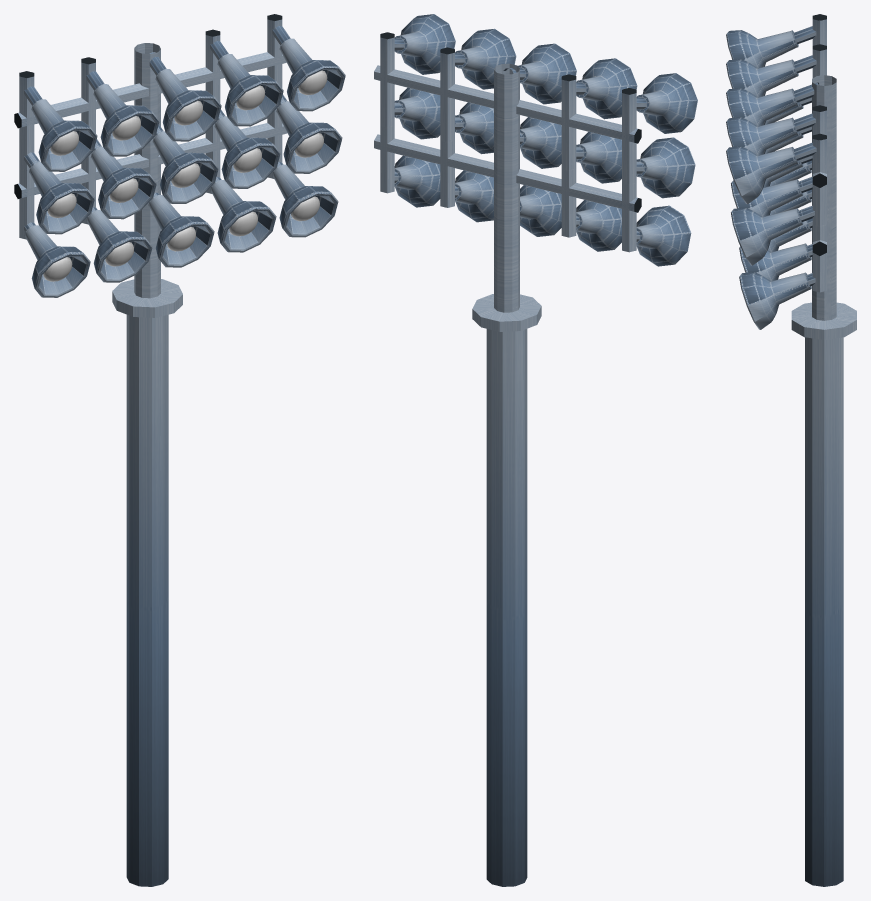
Rendered from MK_Lights.fbx.
The picture shows the model from 3 angles, left to right: view 1: azimuth 30°, elevation 25°; view 2: azimuth 150°, elevation 25°; view 3: azimuth 270°, elevation 25°; orthographic projection. The views are drawn at different scales.
Visible parts, largest first — view 1: polySurface1; view 2: polySurface1; view 3: polySurface1.
Part boxes in pixels (box(x1,y1,x2,y2)): polySurface1: box(14, 14, 345, 886); polySurface1: box(374, 14, 697, 886); polySurface1: box(726, 14, 856, 886).
Bounding box in the file's own units: 9.52 × 25.27 × 3.73.
